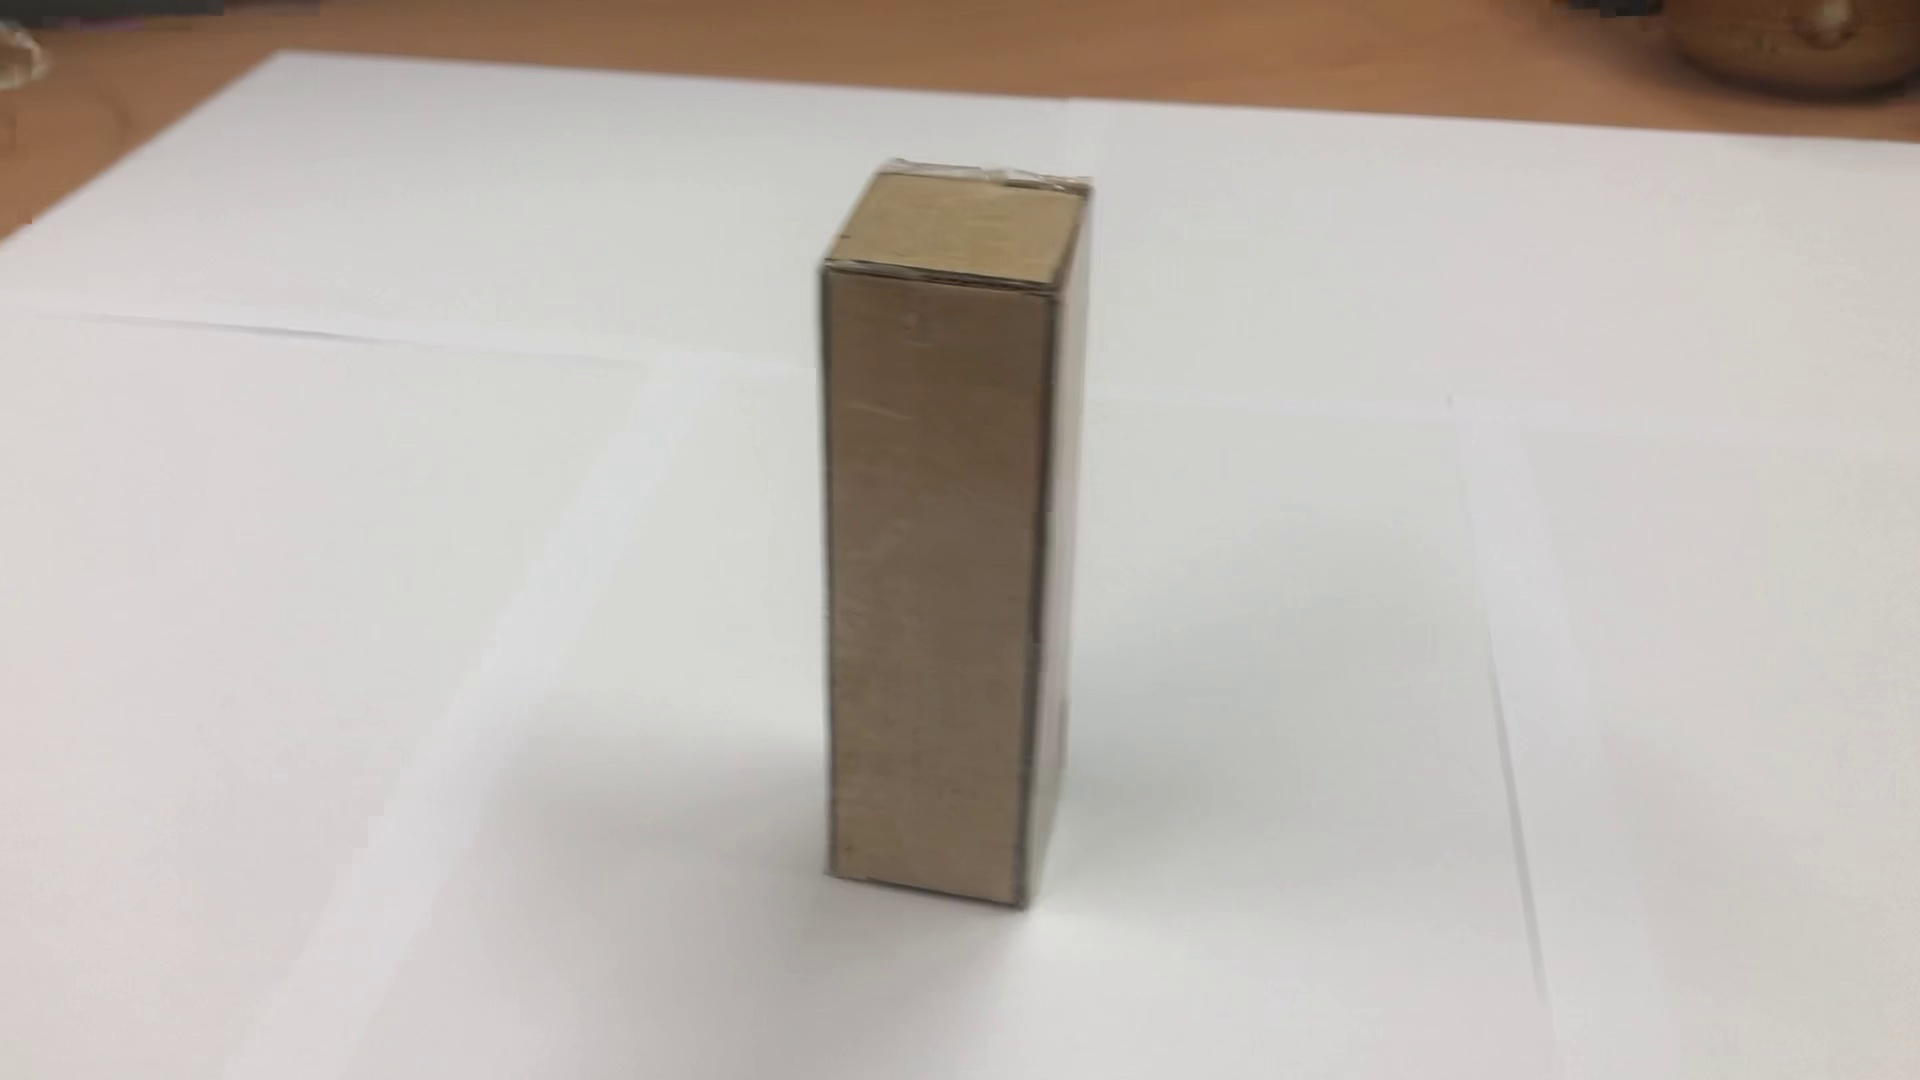box: (789, 142, 1105, 923)
